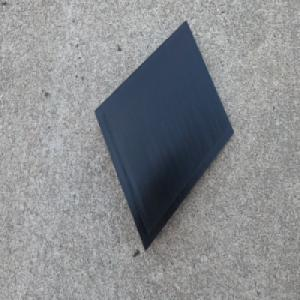PlasticPart: (93, 19, 234, 253)
